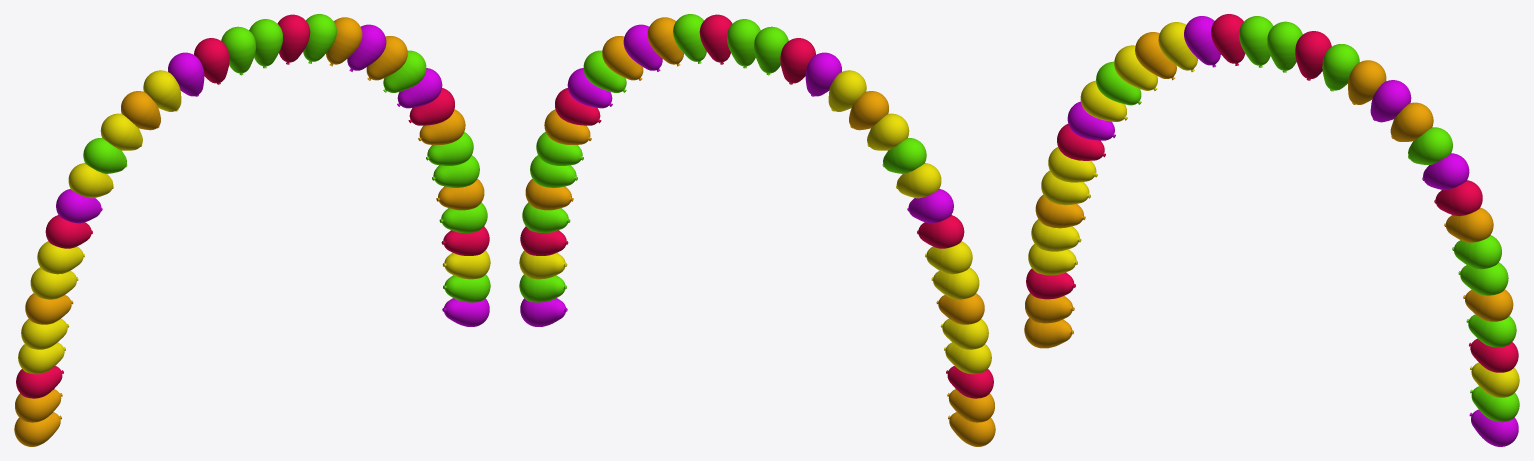
File: ballon.fbx
The picture shows the model from 3 angles, left to right: view 1: azimuth 30°, elevation 25°; view 2: azimuth 150°, elevation 25°; view 3: azimuth 330°, elevation 25°; orthographic projection. The views are drawn at different scales.
Parts seen in each view (by area): view 1: BalloonShape_MASH1_Instancer_15, BalloonShape_MASH1_Instancer_16, BalloonShape_MASH1_Instancer_14, BalloonShape_MASH1_Instancer_17, BalloonShape_MASH1_Instancer_18, BalloonShape_MASH1_Instancer_19, BalloonShape_MASH1_Instancer_13, BalloonShape_MASH1_Instancer_12, BalloonShape_MASH1_Instancer_11, BalloonShape_MASH1_Instancer_20, BalloonShape_MASH1_Instancer_10, BalloonShape_MASH1_Instancer_21 (+24 smaller); view 2: BalloonShape_MASH1_Instancer_15, BalloonShape_MASH1_Instancer_16, BalloonShape_MASH1_Instancer_14, BalloonShape_MASH1_Instancer_17, BalloonShape_MASH1_Instancer_18, BalloonShape_MASH1_Instancer_19, BalloonShape_MASH1_Instancer_13, BalloonShape_MASH1_Instancer_12, BalloonShape_MASH1_Instancer_11, BalloonShape_MASH1_Instancer_20, BalloonShape_MASH1_Instancer_10, BalloonShape_MASH1_Instancer_21 (+24 smaller); view 3: BalloonShape_MASH1_Instancer_19, BalloonShape_MASH1_Instancer_18, BalloonShape_MASH1_Instancer_21, BalloonShape_MASH1_Instancer_20, BalloonShape_MASH1_Instancer_17, BalloonShape_MASH1_Instancer_22, BalloonShape_MASH1_Instancer_23, BalloonShape_MASH1_Instancer_16, BalloonShape_MASH1_Instancer_24, BalloonShape_MASH1_Instancer_25, BalloonShape_MASH1_Instancer_15, BalloonShape_MASH1_Instancer_26 (+24 smaller).
Part boxes in pixels (left/top/right/bottom): BalloonShape_MASH1_Instancer_15: left=168, top=52, right=204, bottom=96; BalloonShape_MASH1_Instancer_16: left=194, top=38, right=229, bottom=84; BalloonShape_MASH1_Instancer_14: left=143, top=70, right=181, bottom=111; BalloonShape_MASH1_Instancer_17: left=221, top=26, right=255, bottom=75; BalloonShape_MASH1_Instancer_18: left=249, top=19, right=282, bottom=68; BalloonShape_MASH1_Instancer_19: left=277, top=14, right=310, bottom=64; BalloonShape_MASH1_Instancer_13: left=121, top=91, right=160, bottom=130; BalloonShape_MASH1_Instancer_12: left=100, top=113, right=142, bottom=150; BalloonShape_MASH1_Instancer_11: left=83, top=138, right=127, bottom=173; BalloonShape_MASH1_Instancer_20: left=303, top=14, right=336, bottom=63; BalloonShape_MASH1_Instancer_10: left=68, top=163, right=113, bottom=198; BalloonShape_MASH1_Instancer_21: left=326, top=17, right=362, bottom=66; BalloonShape_MASH1_Instancer_15: left=805, top=52, right=841, bottom=96; BalloonShape_MASH1_Instancer_16: left=780, top=38, right=815, bottom=84; BalloonShape_MASH1_Instancer_14: left=828, top=70, right=866, bottom=111; BalloonShape_MASH1_Instancer_17: left=754, top=26, right=788, bottom=75; BalloonShape_MASH1_Instancer_18: left=727, top=19, right=760, bottom=68; BalloonShape_MASH1_Instancer_19: left=699, top=14, right=732, bottom=64; BalloonShape_MASH1_Instancer_13: left=849, top=91, right=888, bottom=130; BalloonShape_MASH1_Instancer_12: left=867, top=113, right=909, bottom=150; BalloonShape_MASH1_Instancer_11: left=882, top=138, right=926, bottom=173; BalloonShape_MASH1_Instancer_20: left=673, top=14, right=706, bottom=63; BalloonShape_MASH1_Instancer_10: left=896, top=163, right=941, bottom=198; BalloonShape_MASH1_Instancer_21: left=647, top=17, right=683, bottom=66; BalloonShape_MASH1_Instancer_19: left=1295, top=31, right=1331, bottom=80; BalloonShape_MASH1_Instancer_18: left=1267, top=21, right=1302, bottom=72; BalloonShape_MASH1_Instancer_21: left=1348, top=60, right=1386, bottom=104; BalloonShape_MASH1_Instancer_20: left=1322, top=44, right=1359, bottom=91; BalloonShape_MASH1_Instancer_17: left=1239, top=16, right=1273, bottom=67; BalloonShape_MASH1_Instancer_22: left=1370, top=80, right=1411, bottom=122; BalloonShape_MASH1_Instancer_23: left=1390, top=102, right=1433, bottom=141; BalloonShape_MASH1_Instancer_16: left=1211, top=14, right=1245, bottom=65; BalloonShape_MASH1_Instancer_24: left=1408, top=127, right=1452, bottom=164; BalloonShape_MASH1_Instancer_25: left=1422, top=153, right=1469, bottom=190; BalloonShape_MASH1_Instancer_15: left=1184, top=16, right=1220, bottom=67; BalloonShape_MASH1_Instancer_26: left=1434, top=180, right=1482, bottom=216.
Bounding box in the file's own units: 27.7 × 20.65 × 1.79.
